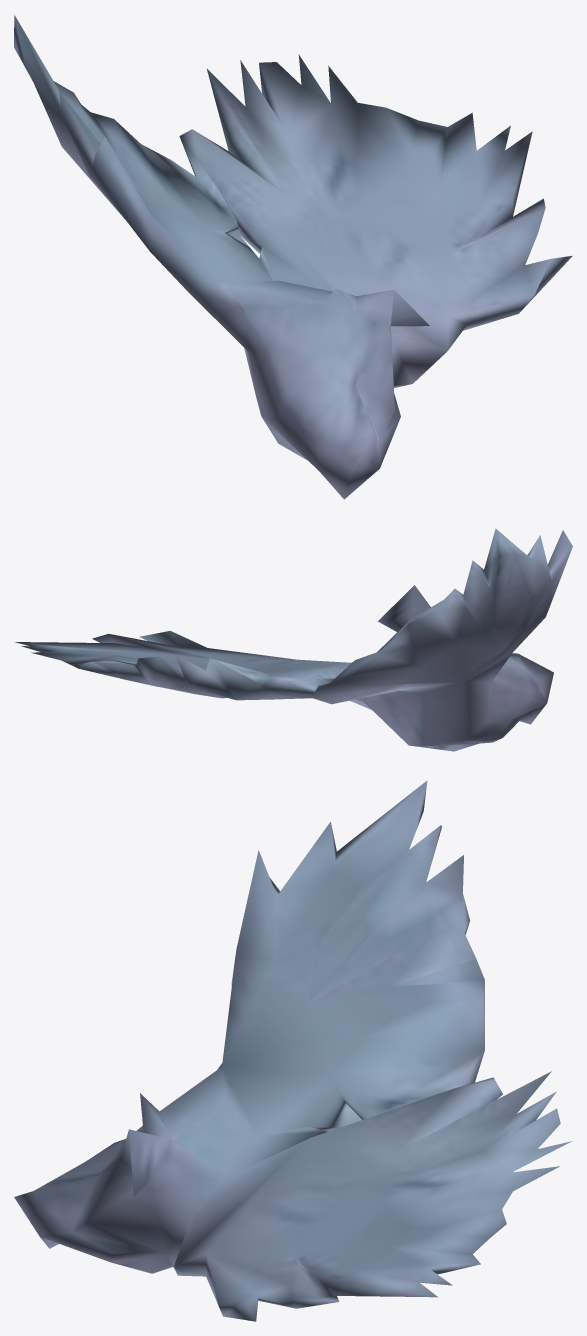
The picture shows the model from 3 angles, top to bottom: view 1: azimuth 30°, elevation 25°; view 2: azimuth 150°, elevation 25°; view 3: azimuth 270°, elevation 25°; orthographic projection. The views are drawn at different scales.
Visible parts, largest first — view 1: tripo_part_13; view 2: tripo_part_13; view 3: tripo_part_13.
Part boxes in pixels (x1,y1,x2,y2): tripo_part_13: (14,15,572,499); tripo_part_13: (15,529,572,751); tripo_part_13: (14,780,571,1321).
Size of the model in its own units: 0.0965 by 0.0682 by 0.0863.
Materials: 1 (1 with a texture image).
